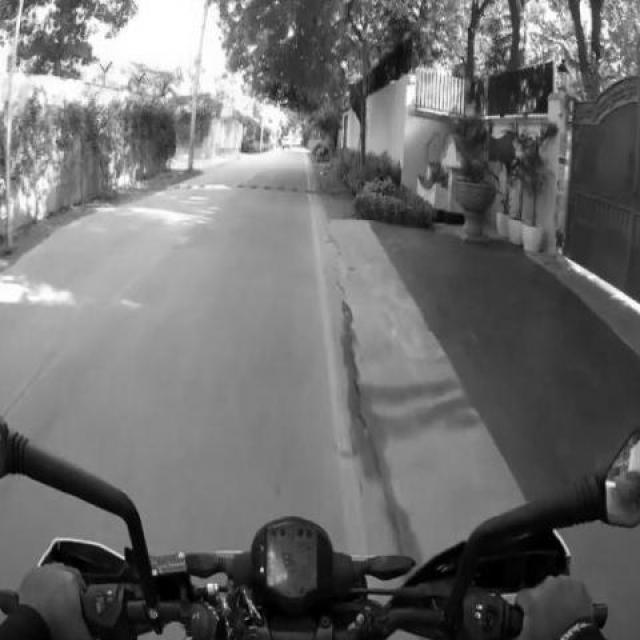Speed Bump: (165, 182, 322, 196)
